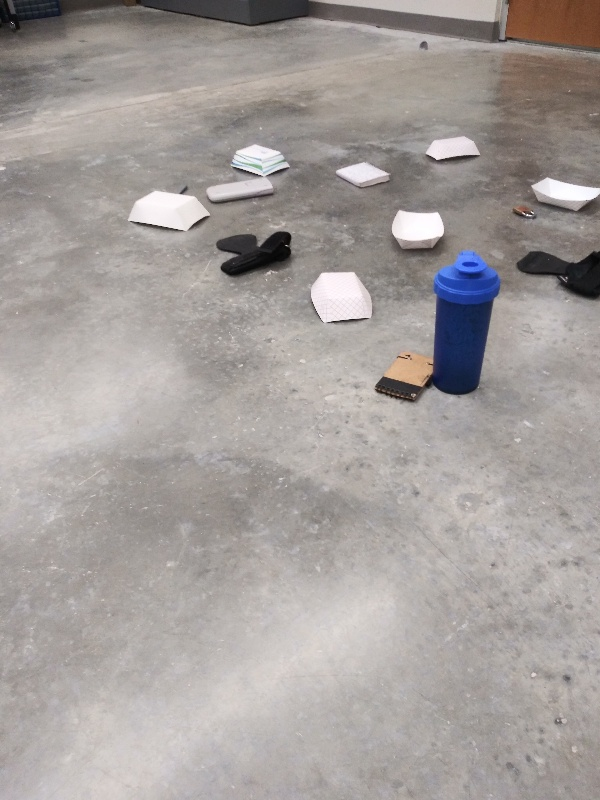plate: (123, 187, 213, 238), (303, 270, 376, 325), (386, 205, 448, 257), (525, 174, 600, 214), (223, 141, 297, 178), (419, 133, 484, 164)
